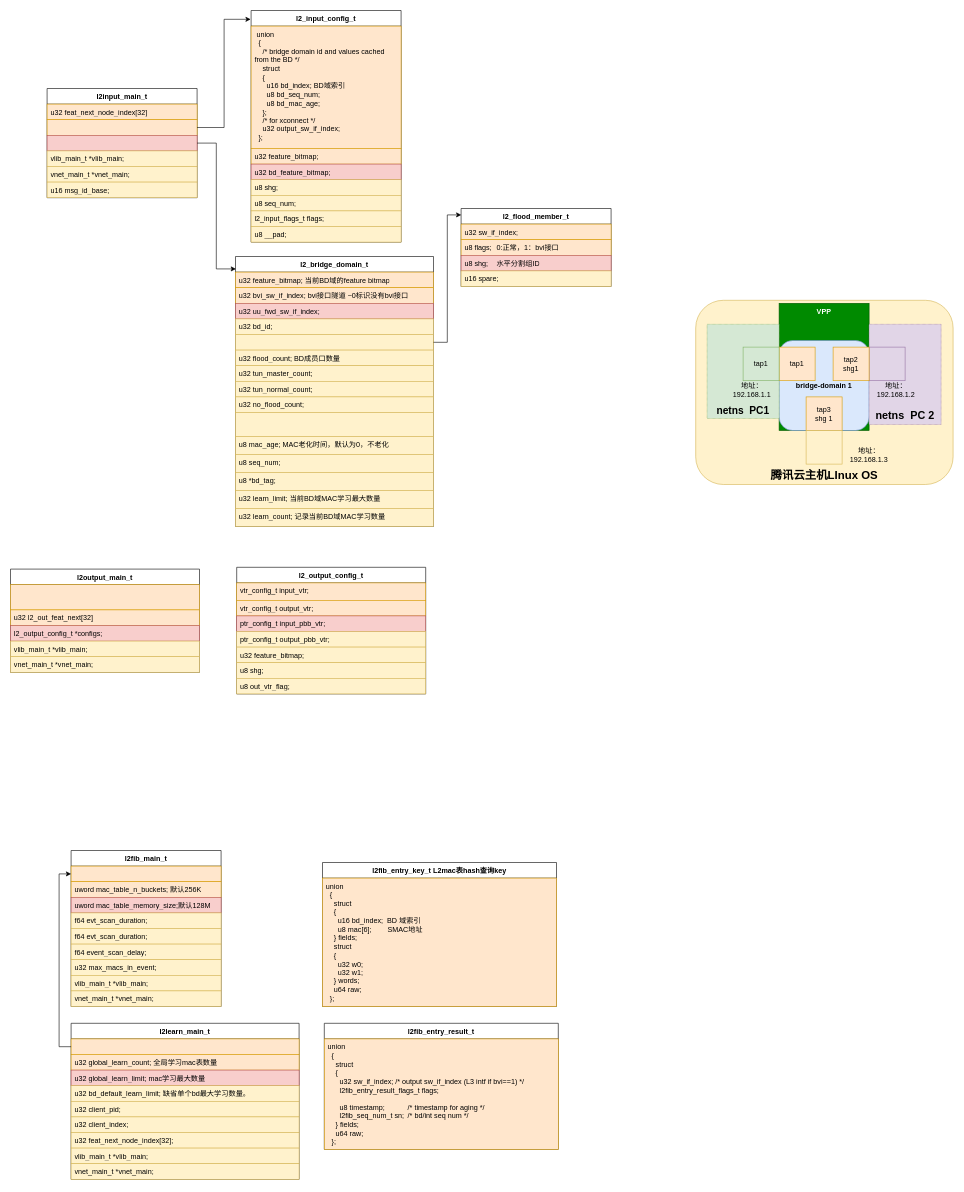
This 964x1192 diagram has some shape labels left out. The shapes that lost their labels are listed below. From the top down, each one's centre as x and y in pixels, then its label:
[121,127]: l2_input_config_t *configs
[121,143]: l2_bridge_domain_t *bd_configs
[334,342]: l2_flood_member_t *members;
[886,363]: tap2
[334,424]: uword *mac_by_ip4; uword *mac_by_ip6;
[824,447]: tap3
[105,597]: u32 *output_node_index_vec；ouput方向接口索引查询物理接口output node索引
[145,874]: BVT (clib_bihash) mac_table;
[184,1046]: BVT (clib_bihash) * mac_table; 等于l2fib_mian de mac 表
